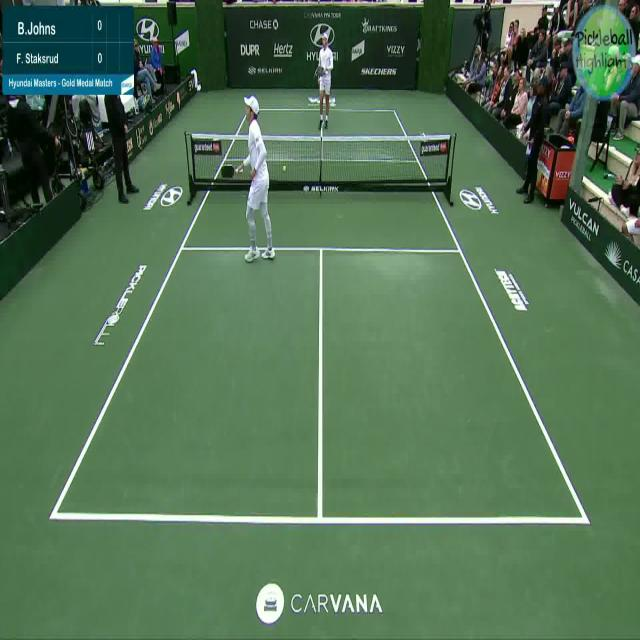Court: (51, 105, 591, 525)
ball: (280, 161, 292, 180)
